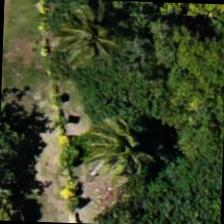Kelapa_Sawit: (78, 109, 171, 202), (44, 0, 138, 85)
